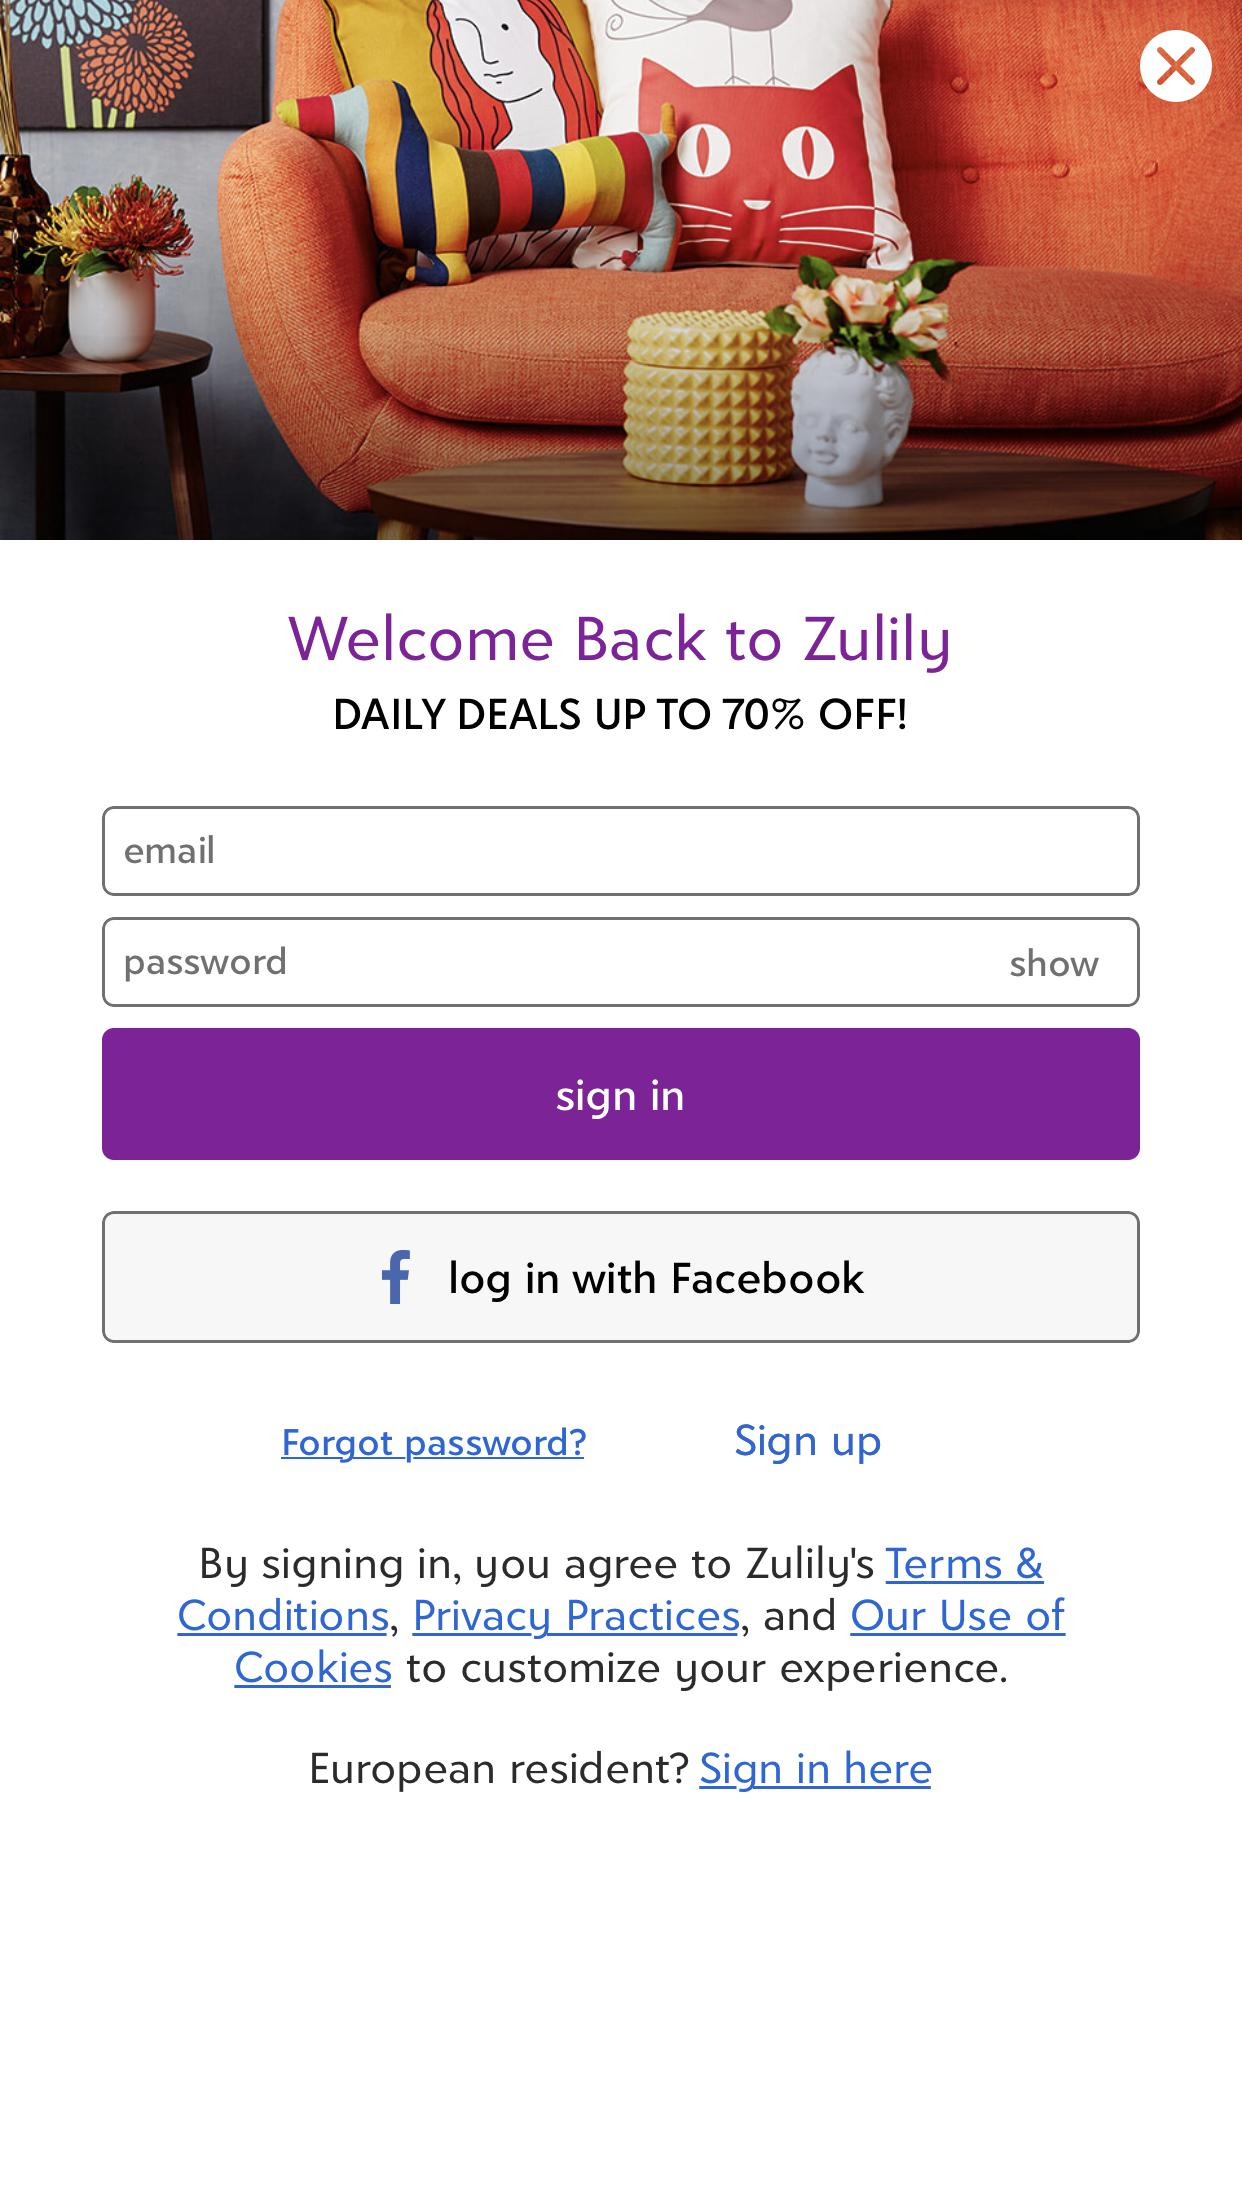EditText: (102, 805, 1140, 898), (103, 917, 1140, 1008)
Icon: (1137, 30, 1213, 105)
Image: (2, 2, 1242, 541)
Text: (177, 1545, 1068, 1692), (288, 613, 949, 675), (312, 1749, 933, 1794), (337, 698, 907, 732), (281, 1425, 587, 1463), (734, 1422, 881, 1465), (126, 946, 287, 984), (124, 834, 215, 864), (1008, 948, 1099, 978)
TextButton: (102, 1027, 1140, 1162), (102, 1210, 1140, 1344)
